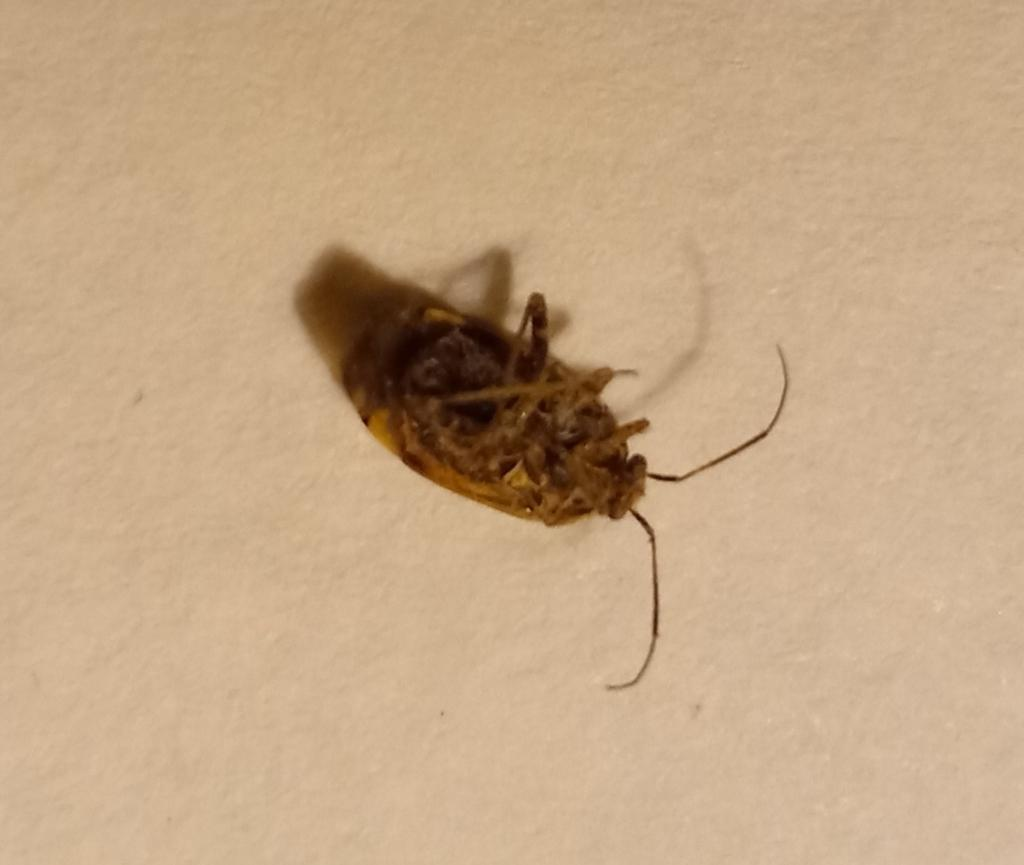plant_bugs: (263, 188, 843, 758)
